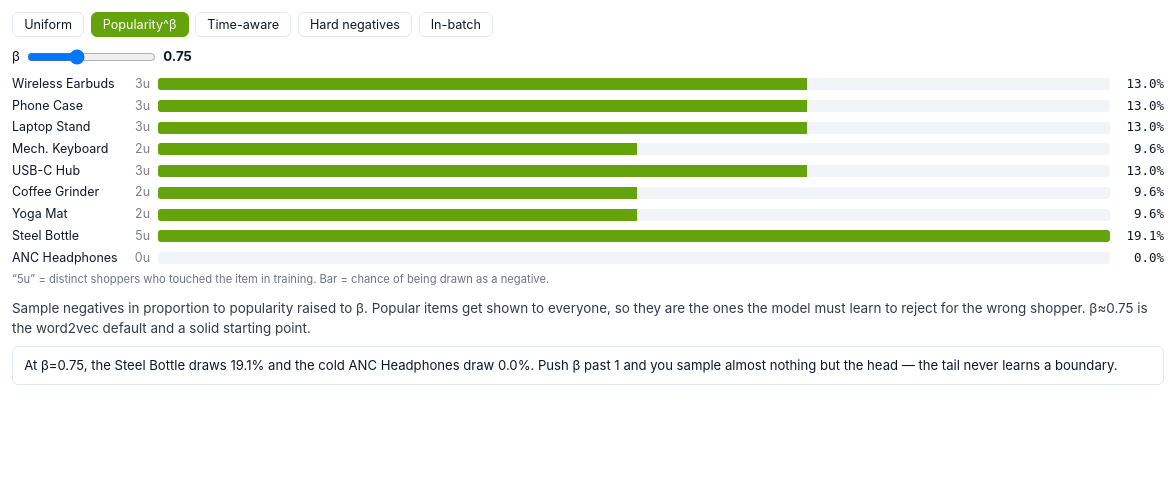
Test: recsys widgets respond to input › NegativeSamplingWidget zeroes the not-yet-listed item under time-aware sampling
The width and height of the screenshot is (1176, 491).
Click the button "Uniform" at [48, 25], box [12,12,84,37]
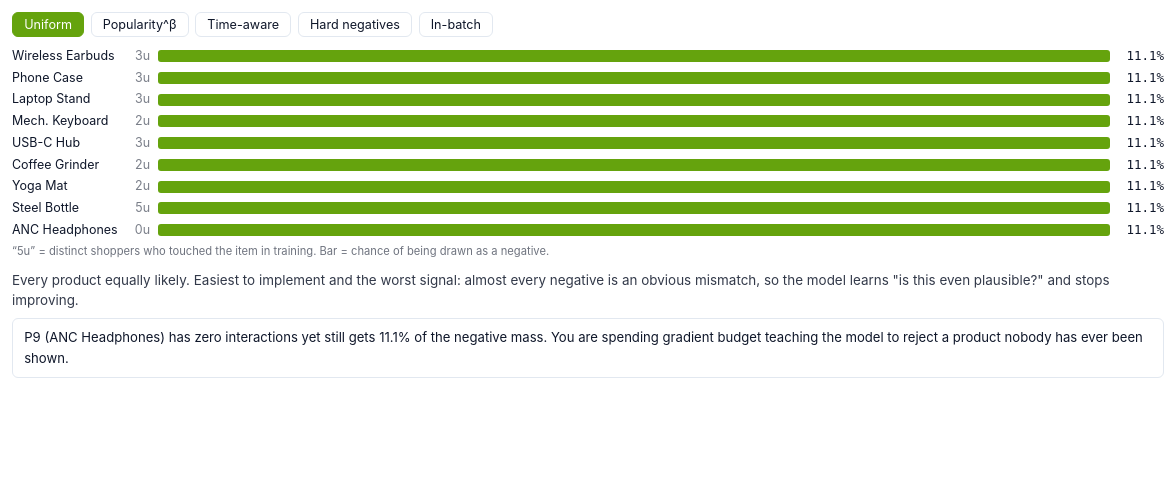
Click the button "Time-aware" at [243, 25], box [195,12,291,37]
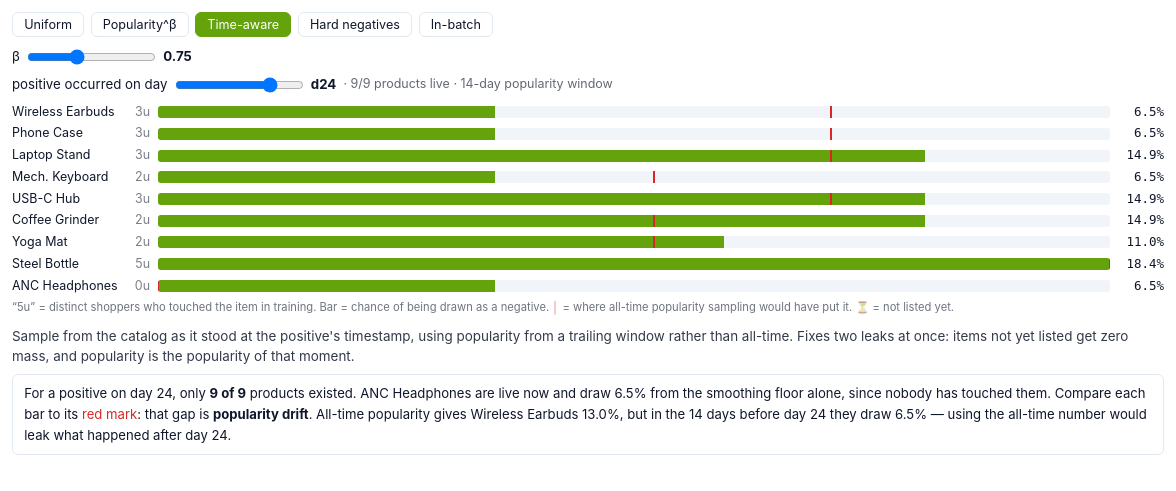
Set the 2nd slider to "10" at [209, 85], box [175,77,304,93]
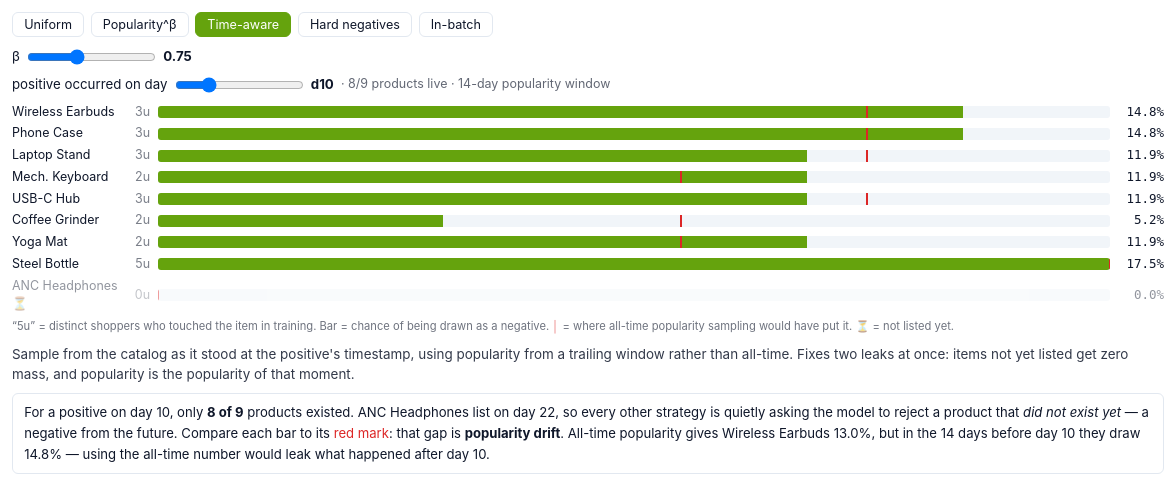
Check: the text "· 8/9 products live · 14-day popularity window" is shown, box [341,75,610,94]
